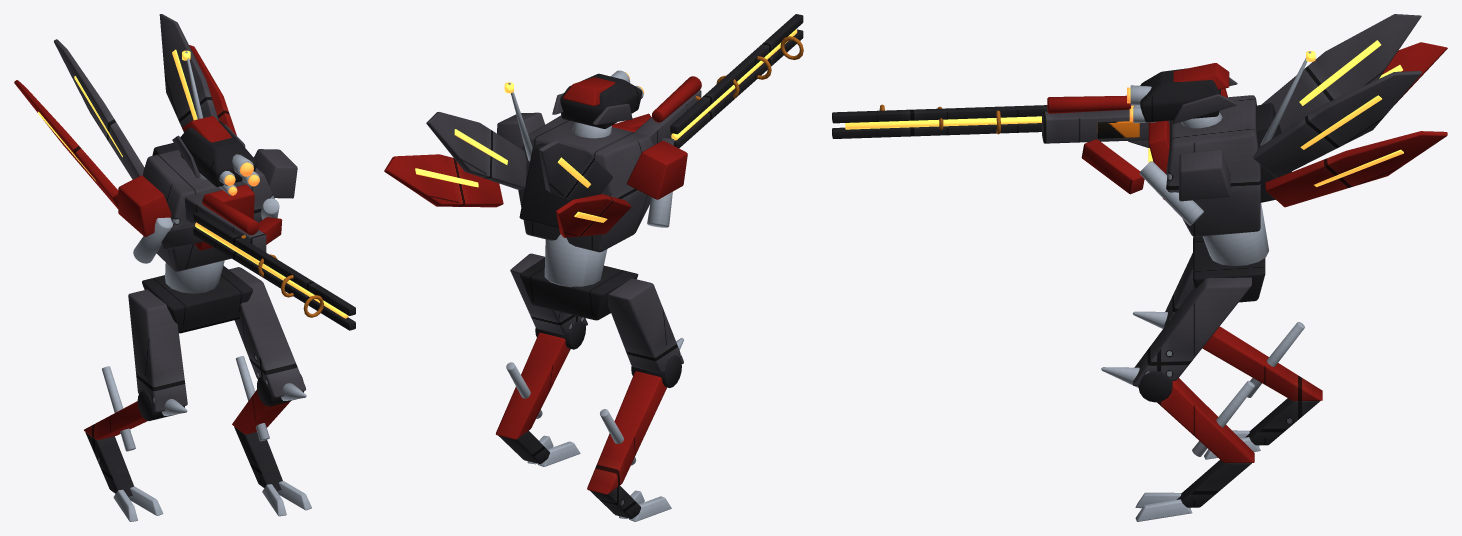
Rendered from sniper_stalker.glb.
3 views of the same model, side by side, from view 1: azimuth 30°, elevation 25°; view 2: azimuth 150°, elevation 25°; view 3: azimuth 270°, elevation 25° (orthographic). The views are drawn at different scales.
Visible parts, largest first — view 1: RightLeg_Thigh, Sniper_Torso, LeftLeg_Thigh, Sniper_Pelvis, Sniper_CloakBlade_1_0, Sniper_CloakBlade_-1_0, Sniper_Helm, Sniper_RPauldron, Sniper_UpperRail, Sniper_CloakBlade_-1_1, Sniper_LPauldron, Sniper_LowerRail (+22 smaller); view 2: Sniper_Torso, RightLeg_Thigh, RightLeg_Shin, Sniper_CloakBlade_1_0, Sniper_CloakBlade_1_1, LeftLeg_Shin, Sniper_Pelvis, Sniper_CloakBlade_-1_0, Sniper_RPauldron, Sniper_Waist, Sniper_CloakBlade_-1_1, Sniper_UpperRail (+17 smaller); view 3: Sniper_Torso, Sniper_CloakBlade_1_0, Sniper_CloakBlade_-1_0, LeftLeg_Thigh, Sniper_CloakBlade_1_1, RightLeg_Shin, LeftLeg_Shin, Sniper_Helm, Sniper_UpperRail, Sniper_Stock, Sniper_LPauldron, Sniper_LowerRail (+19 smaller).
Boxes of the visible parts, box(x1,y1,x2,y2) form: RightLeg_Thigh: box(128, 289, 187, 412); Sniper_Torso: box(143, 149, 274, 271); LeftLeg_Thigh: box(229, 267, 305, 397); Sniper_Pelvis: box(142, 265, 252, 333); Sniper_CloakBlade_1_0: box(159, 14, 218, 132); Sniper_CloakBlade_-1_0: box(54, 39, 144, 179); Sniper_Helm: box(180, 120, 256, 186); Sniper_RPauldron: box(118, 175, 171, 236); Sniper_UpperRail: box(193, 212, 355, 315); Sniper_CloakBlade_-1_1: box(14, 80, 118, 208); Sniper_LPauldron: box(254, 149, 297, 198); Sniper_LowerRail: box(193, 227, 355, 330); Sniper_Torso: box(518, 115, 653, 252); RightLeg_Thigh: box(608, 278, 683, 373); RightLeg_Shin: box(587, 371, 666, 494); Sniper_CloakBlade_1_0: box(426, 112, 526, 189); Sniper_CloakBlade_1_1: box(384, 154, 503, 207); LeftLeg_Shin: box(496, 332, 570, 439); Sniper_Pelvis: box(520, 257, 638, 320); Sniper_CloakBlade_-1_0: box(539, 140, 613, 200); Sniper_RPauldron: box(627, 140, 687, 199); Sniper_Waist: box(544, 234, 607, 287); Sniper_CloakBlade_-1_1: box(556, 194, 631, 237); Sniper_UpperRail: box(670, 14, 803, 134); Sniper_Torso: box(1166, 95, 1260, 236); Sniper_CloakBlade_1_0: box(1253, 71, 1421, 177); Sniper_CloakBlade_-1_0: box(1262, 14, 1421, 132); LeftLeg_Thigh: box(1133, 277, 1251, 385); Sniper_CloakBlade_1_1: box(1265, 131, 1447, 207); RightLeg_Shin: box(1202, 326, 1322, 400); LeftLeg_Shin: box(1157, 378, 1254, 462); Sniper_Helm: box(1140, 68, 1220, 122); Sniper_UpperRail: box(832, 105, 1047, 123); Sniper_Stock: box(1042, 109, 1169, 143); Sniper_LPauldron: box(1179, 150, 1230, 201); Sniper_LowerRail: box(832, 123, 1041, 138).
Size of the model in its own units: 0.8262 by 1.87 by 2.34.
8 materials, 6 textured.
